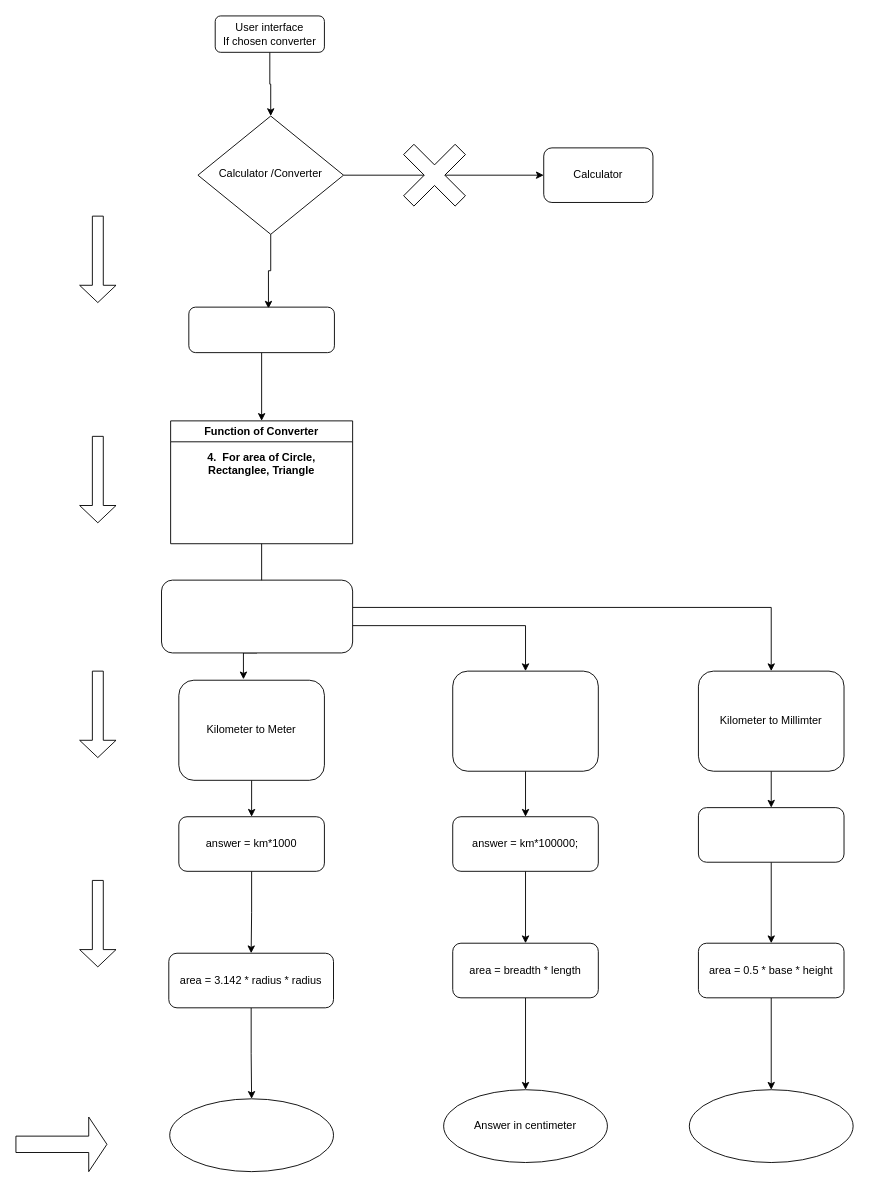
Some shapes in this 869 by 1188 pixel diagram are drawn without their labels. The centre of each missing label's shape, as x and y in pixels:
"answer = km*1000000" goes at point 771,834.
"Answer in meter" goes at point 251,1135.
"Answer in millimter" goes at point 770,1126.
"Converter" goes at point 261,329.
"Enter the Values of distance in Kilometer" goes at point 257,616.
"Kilometer to Centimeter" goes at point 525,720.
